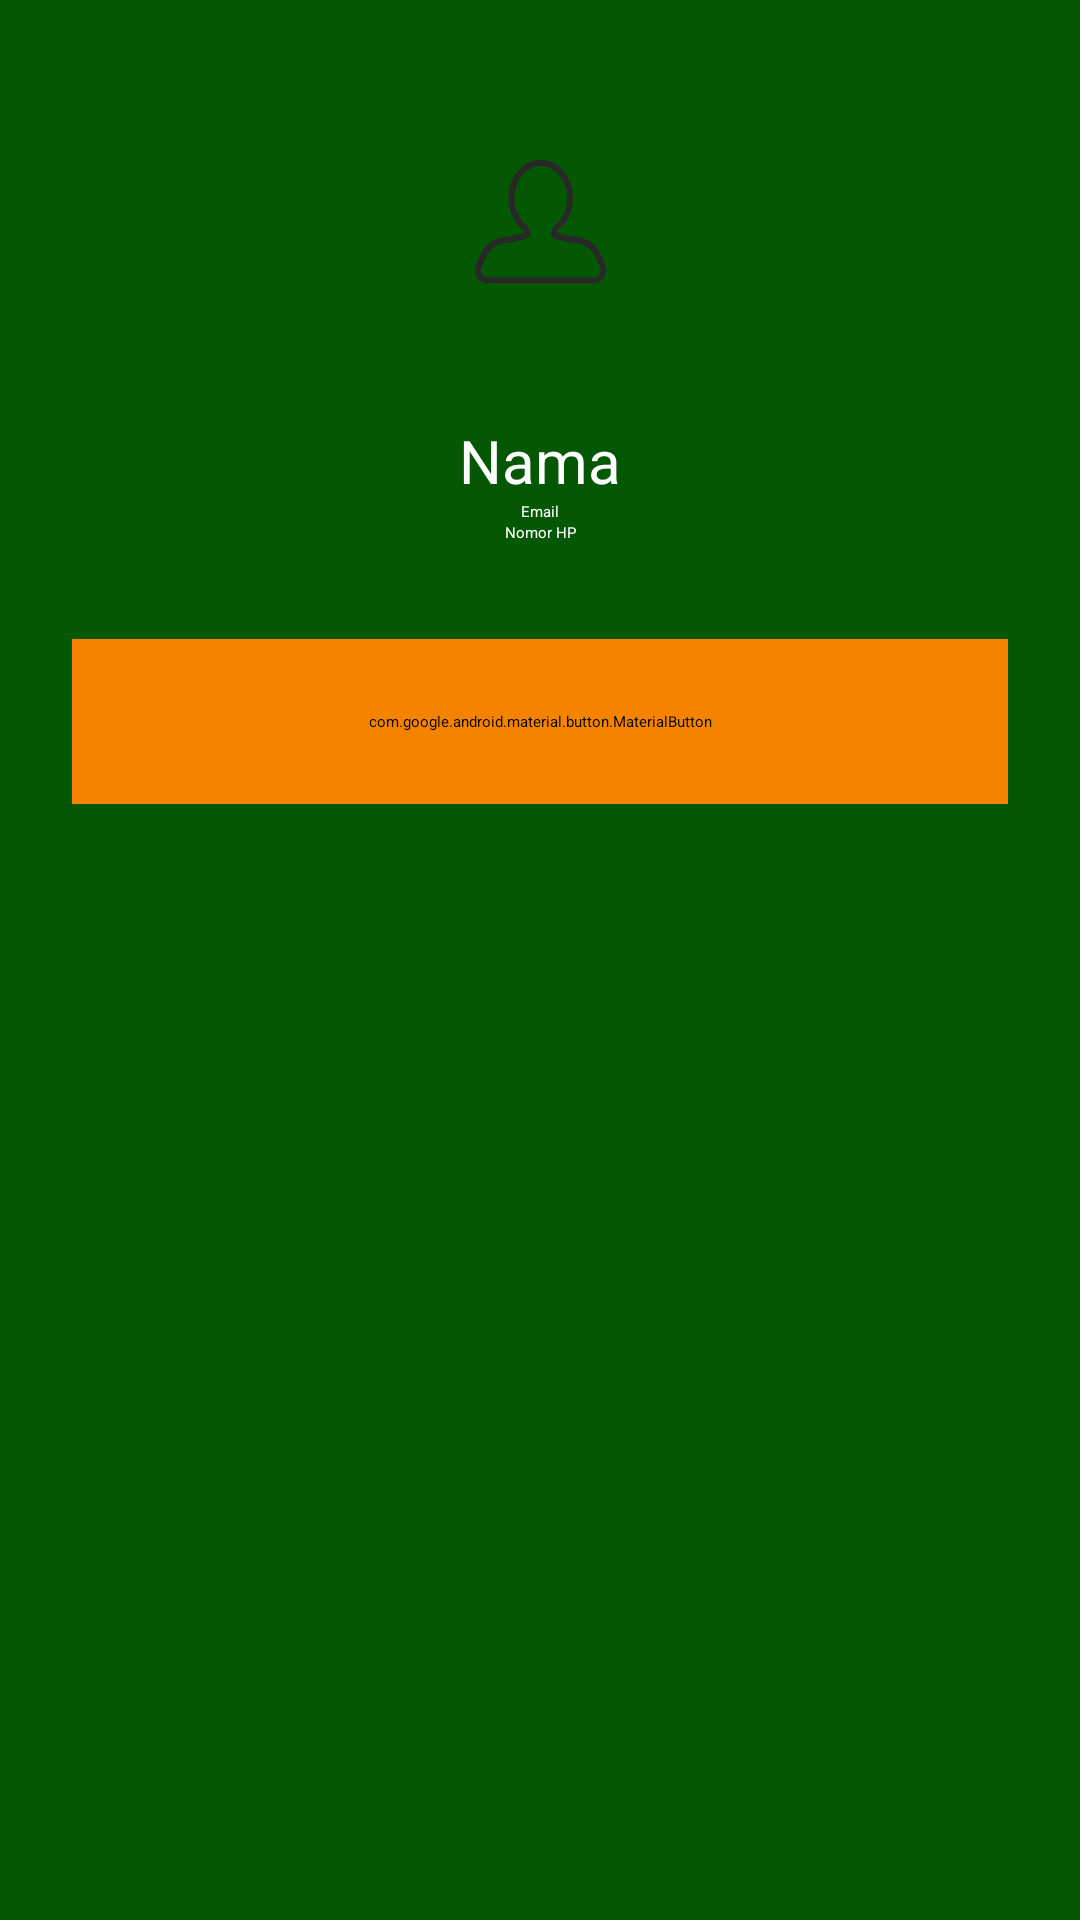

Screen size 1080w x 1920h. Icon name, then its box in pixels as (x1=x1, y1=y1, x2=x2, y2=y2):
user: (x1=475, y1=160, x2=606, y2=283)
